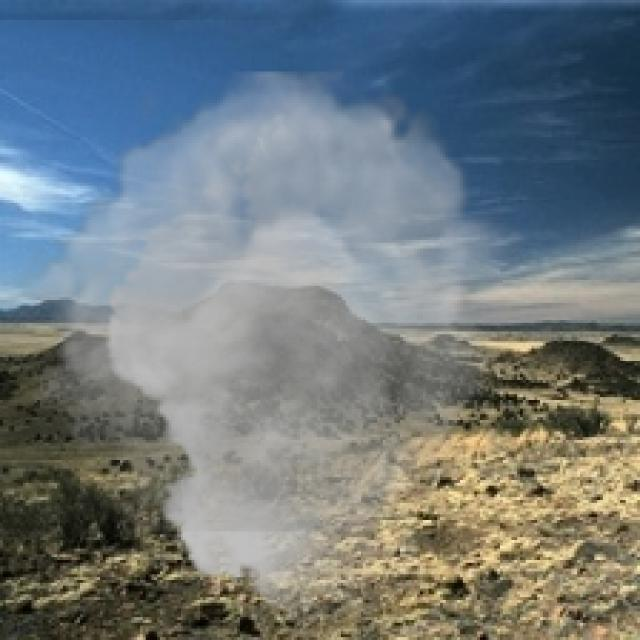smoke: (11, 71, 526, 623)
